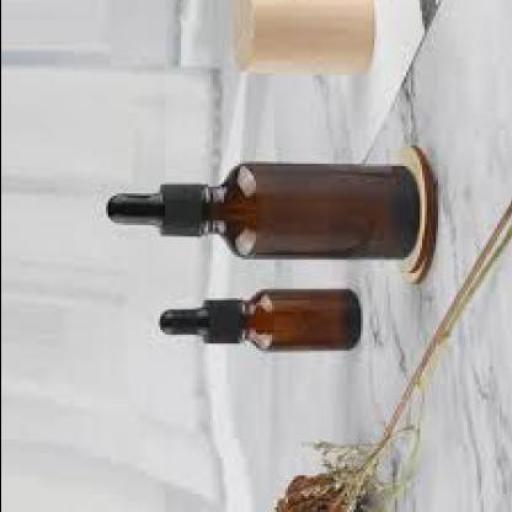glass: (198, 166, 419, 262), (236, 288, 360, 352)
plastic: (104, 187, 200, 239), (158, 304, 238, 346)
